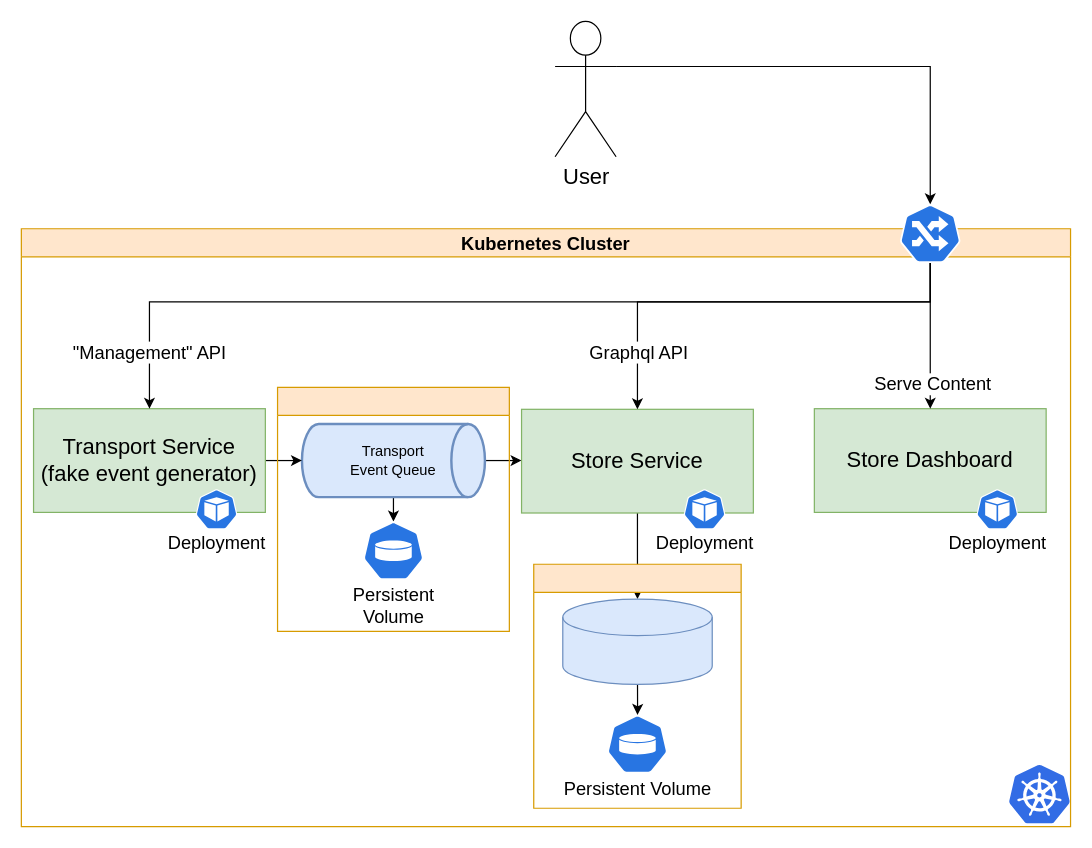
Some shapes in this 1092 by 848 pixel diagram are drawn without their labels. Here are the shapes that lost their labels. From the top down, the box of each, then its label:
(899, 203, 961, 263): Traefik - Ingress
(276, 386, 509, 631): Solace Helm-Chart
(562, 598, 712, 684): PostgreSQL
(533, 563, 741, 808): Postgres Helm-Chart
